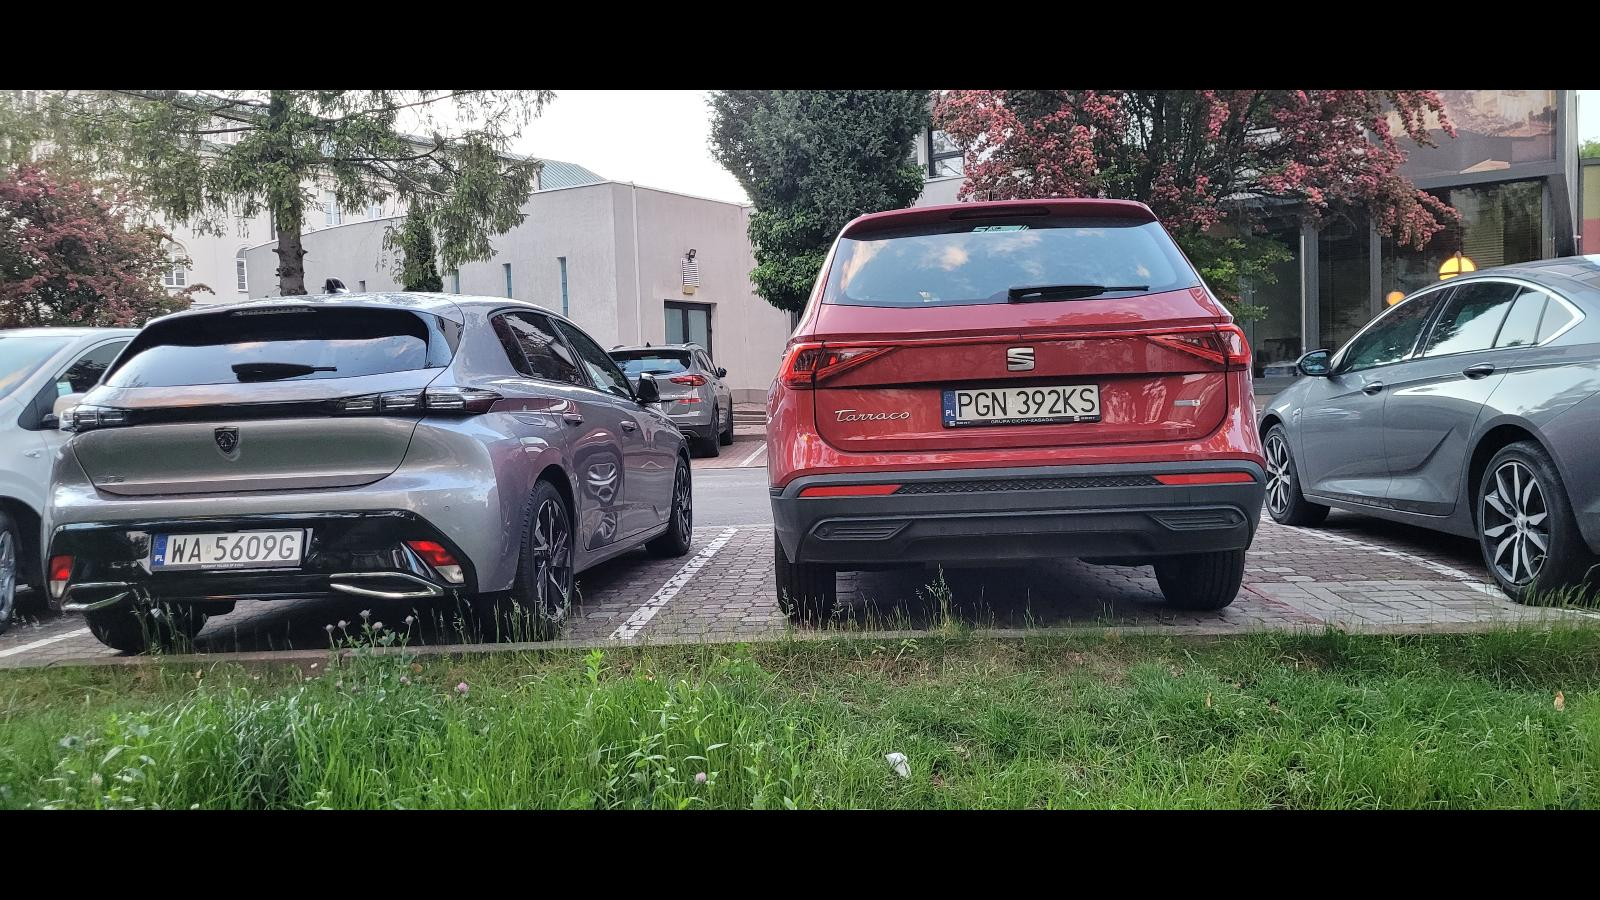plates: (941, 382, 1101, 428), (150, 529, 304, 571)
